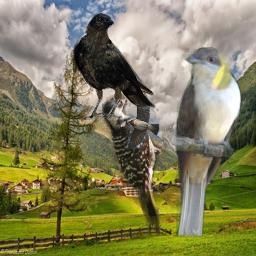Crow: (72, 12, 156, 120)
Cuckoo: (172, 47, 241, 236)
Swallow: (127, 88, 160, 150)
Woodpecker: (102, 94, 174, 236)
